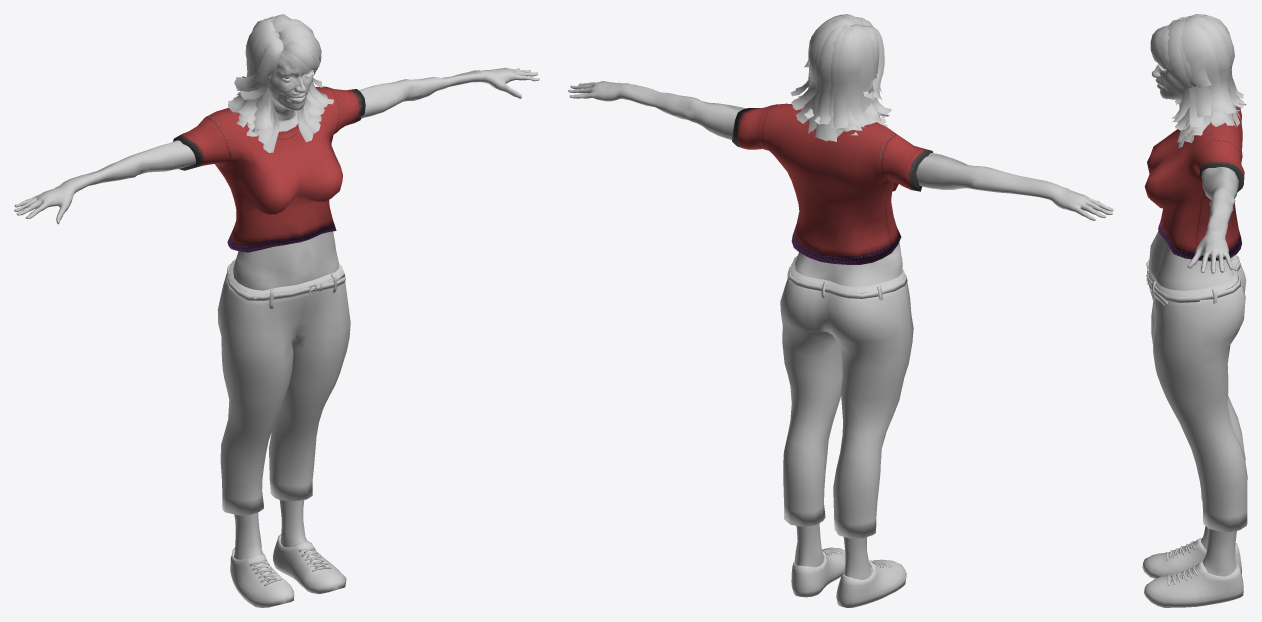
The model's file is woman red capris.obj.
3 renders of one model, left to right at view 1: azimuth 30°, elevation 25°; view 2: azimuth 150°, elevation 25°; view 3: azimuth 270°, elevation 25°, orthographic.
Parts seen in each view (by area): view 1: Bottoms, Tops, Body, Hair, Shoes; view 2: Bottoms, Tops, Body, Hair, Shoes; view 3: Bottoms, Tops, Hair, Body, Shoes.
Boxes of the visible parts, x1,y1,x2,y2 form: Bottoms: (217,259,350,515); Tops: (173,86,365,252); Body: (14,54,539,559); Hair: (228,14,333,152); Shoes: (230,534,346,607); Bottoms: (780,255,913,538); Tops: (732,103,932,264); Body: (568,81,1113,579); Hair: (790,14,891,141); Shoes: (791,547,906,607); Bottoms: (1146,255,1247,532); Tops: (1144,96,1244,261); Hair: (1150,14,1246,148); Body: (1149,65,1238,576); Shoes: (1142,538,1243,607).
Bounding box in the file's own units: 175 × 178 × 29.84.
